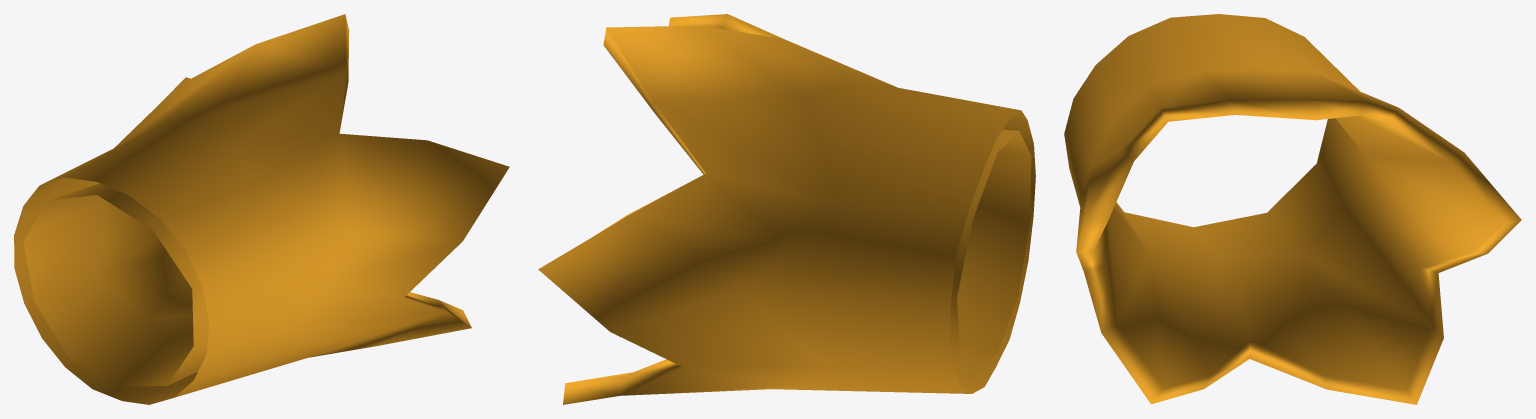
Rendered from crown.obj.
3 renders of one model, left to right at view 1: azimuth 30°, elevation 25°; view 2: azimuth 150°, elevation 25°; view 3: azimuth 270°, elevation 25°, orthographic. The views are drawn at different scales.
Visible parts, largest first — view 1: dynamic; view 2: dynamic; view 3: dynamic.
Part boxes in pixels (x1=…): dynamic: x1=14, y1=14, x2=509, y2=404; dynamic: x1=538, y1=14, x2=1035, y2=404; dynamic: x1=1064, y1=14, x2=1521, y2=404.
Bounding box in the file's own units: 220 × 169 × 224.
Materials: 1 (1 with a texture image).
